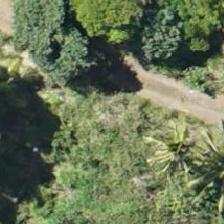coconut_tree: (130, 111, 220, 201)
